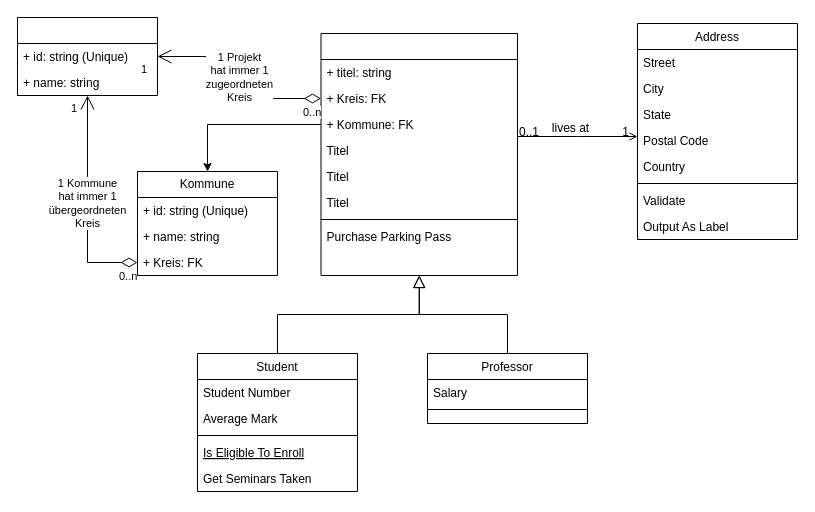
This 815x512 diagram has some shape labels left out. Each missing label, with the box of its shape:
Kreis: (16, 16, 158, 96)
Project: (320, 32, 518, 276)
